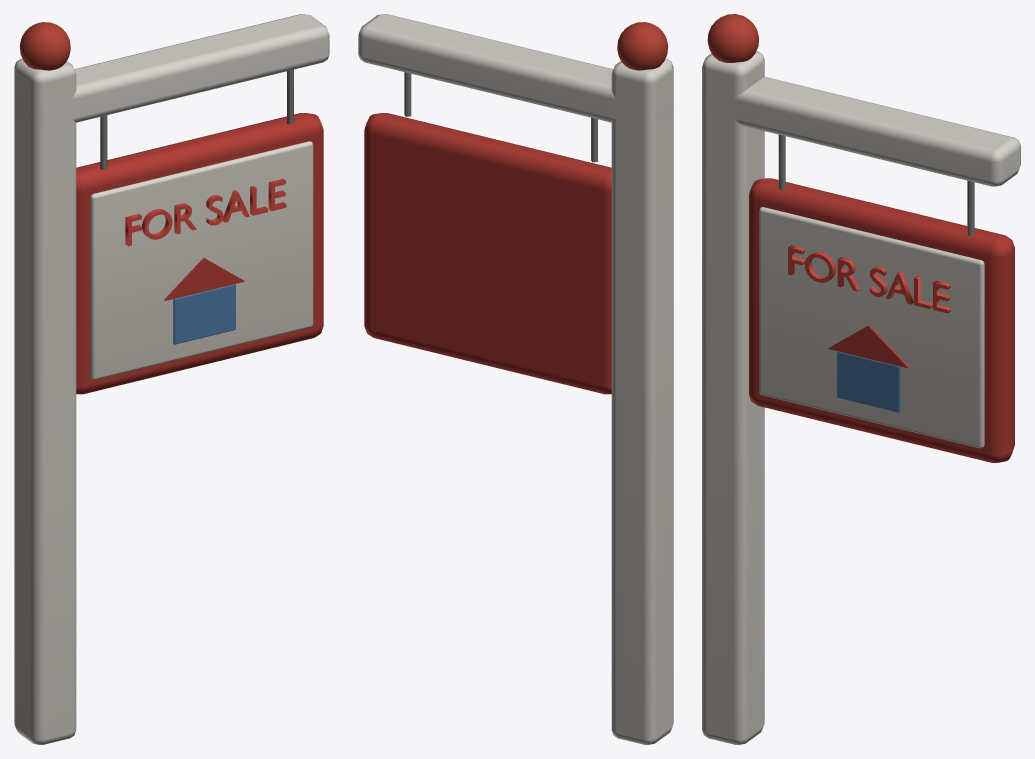
File: sign_forsale.glb
The picture shows the model from 3 angles, left to right: view 1: azimuth 30°, elevation 25°; view 2: azimuth 150°, elevation 25°; view 3: azimuth 330°, elevation 25°; orthographic projection.
Parts seen in each view (by area): view 1: sign_forsale_main, Text; view 2: sign_forsale_main; view 3: sign_forsale_main, Text.
Part boxes in pixels (left/top/right/bottom): sign_forsale_main: left=14, top=14, right=329, bottom=744; Text: left=125, top=179, right=286, bottom=246; sign_forsale_main: left=358, top=14, right=673, bottom=744; sign_forsale_main: left=702, top=14, right=1020, bottom=744; Text: left=788, top=245, right=950, bottom=313.
Bounding box in the file's own units: 0.67 × 1.53 × 0.106.
